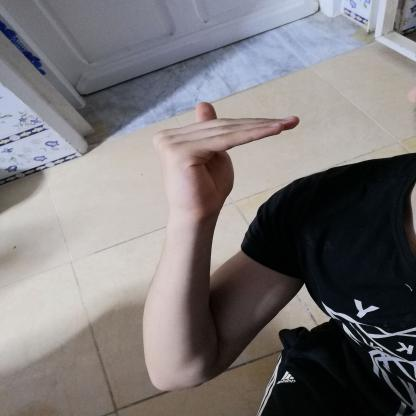KHAA: (134, 94, 320, 228)
